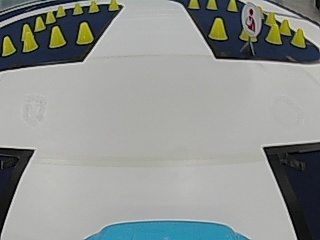cone: (209, 18, 228, 40), (22, 25, 38, 50), (49, 26, 67, 48), (76, 22, 93, 44), (266, 21, 282, 44), (292, 27, 306, 48), (2, 36, 15, 55), (34, 15, 46, 30), (280, 18, 290, 34), (45, 10, 56, 23), (88, 0, 99, 13), (72, 3, 83, 15), (107, 0, 118, 11), (227, 0, 238, 11), (56, 5, 66, 17), (206, 0, 217, 10), (188, 0, 200, 9)
patient: (241, 3, 262, 33)
